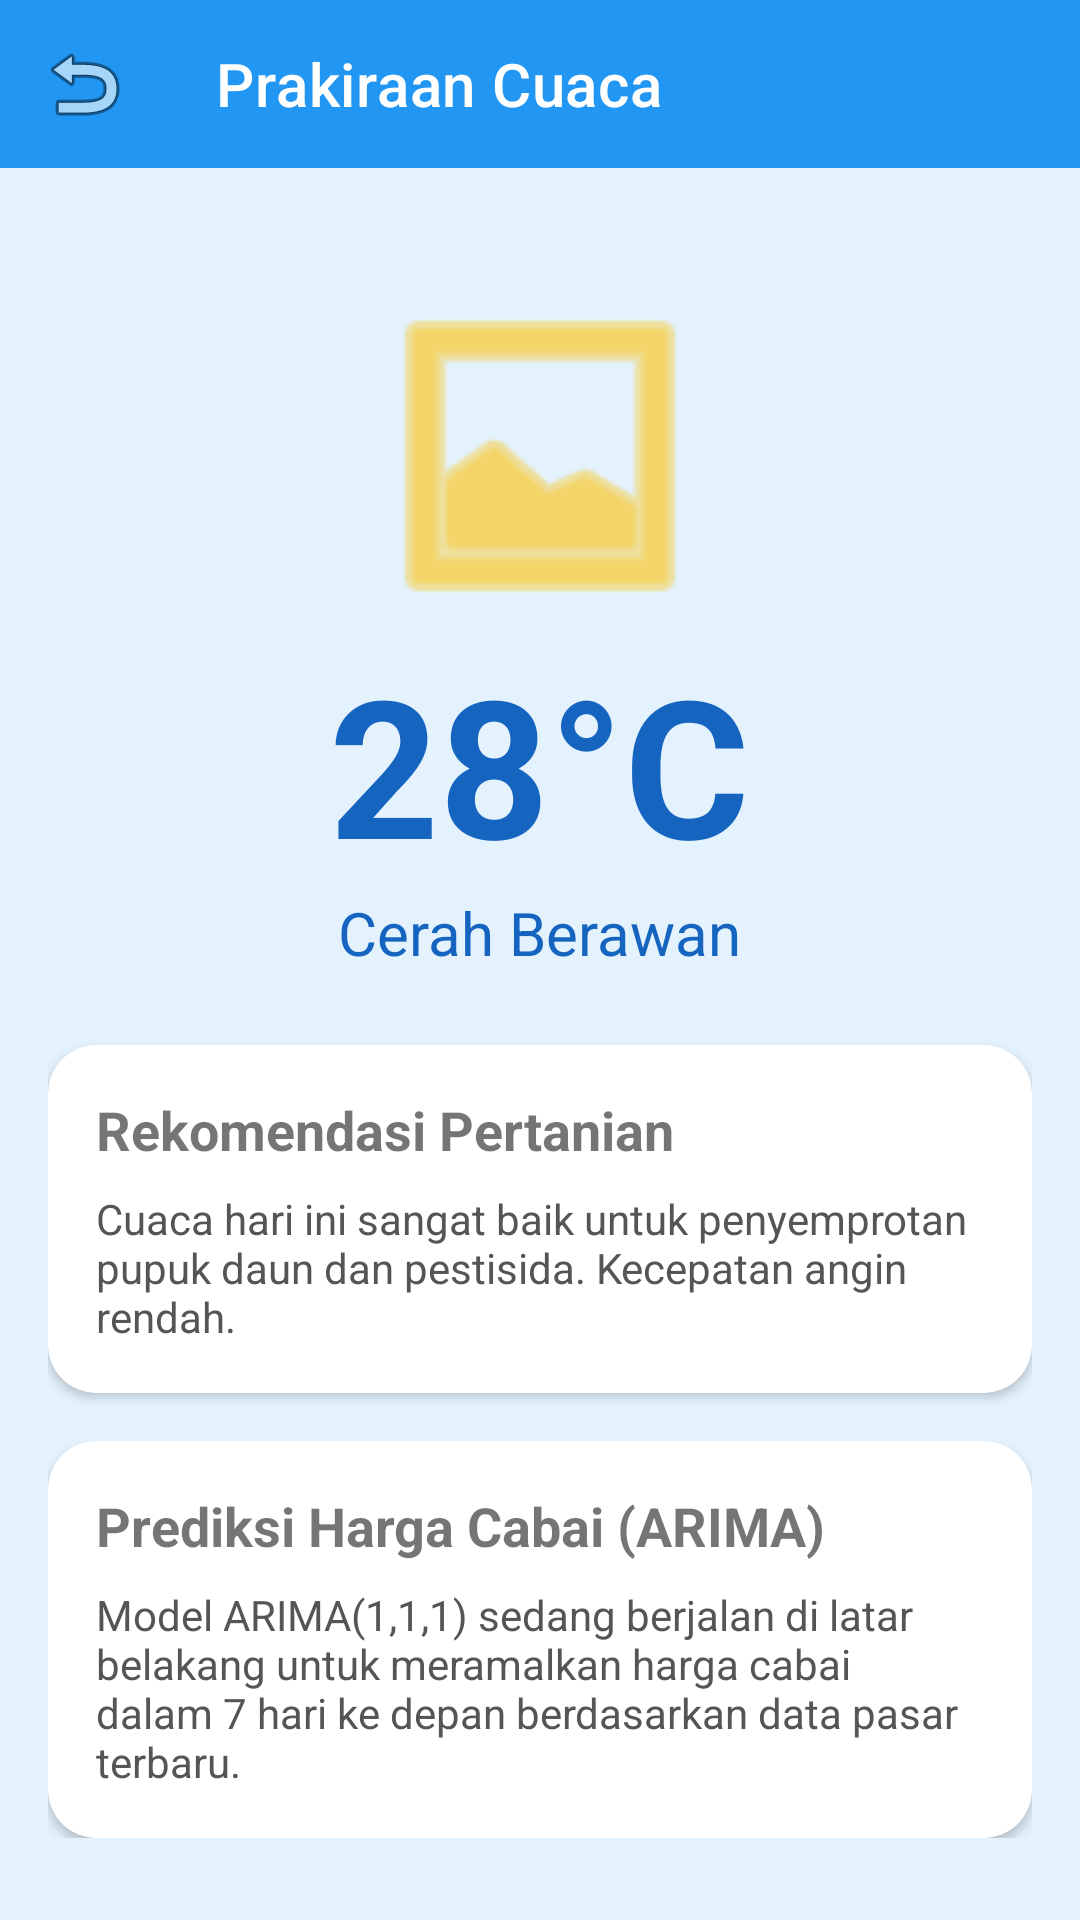

Screen size 1080×1920. Icon name, then its box in pixels as (x1, y1, x2, y2):
gallery: (404, 320, 676, 592)
